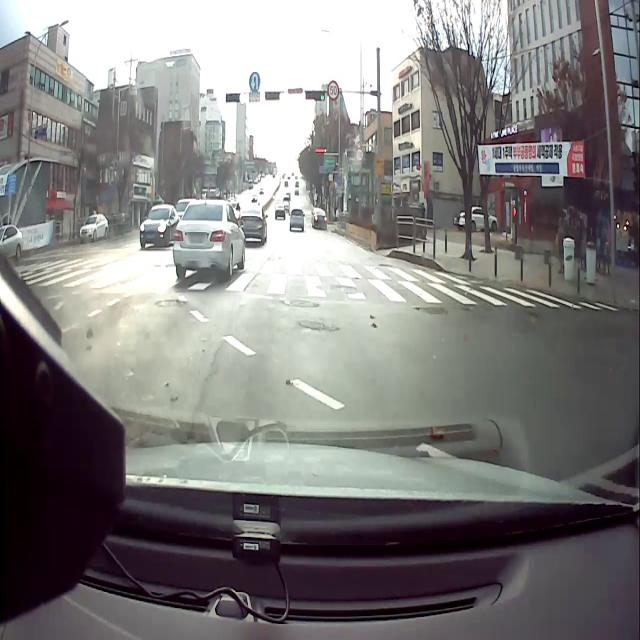Green Light: (239, 92, 246, 104), (278, 91, 284, 102), (319, 91, 324, 102)
